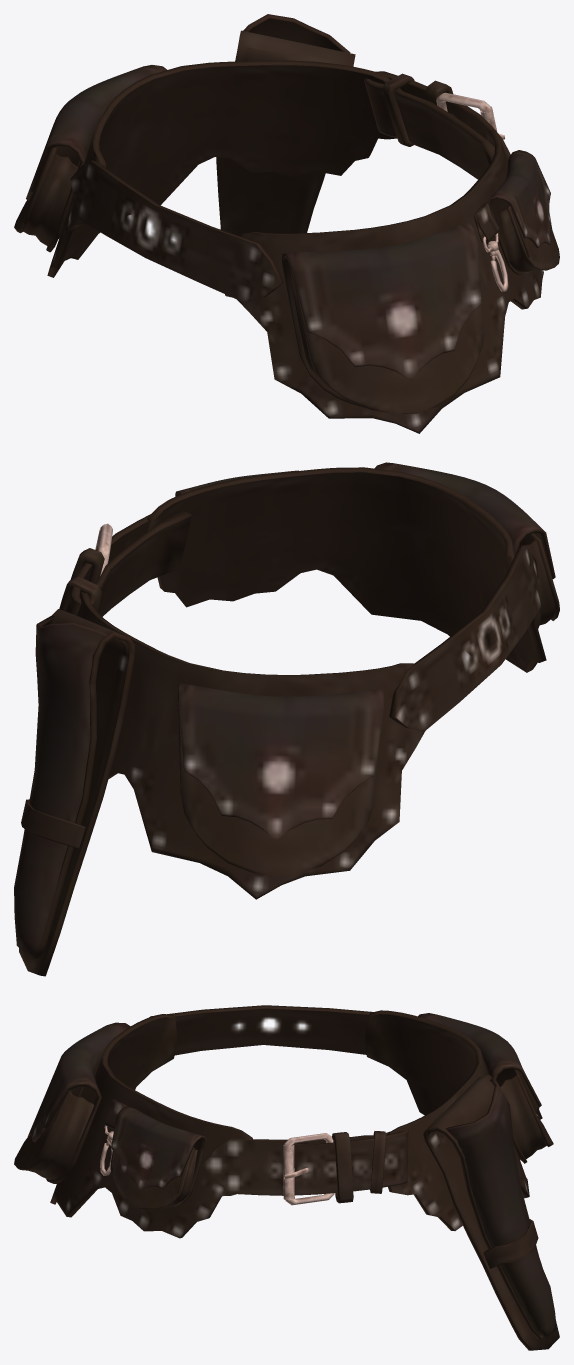
File: ropa_leather_belt.glb
The picture shows the model from 3 angles, top to bottom: view 1: azimuth 30°, elevation 25°; view 2: azimuth 150°, elevation 25°; view 3: azimuth 270°, elevation 25°; orthographic projection. The views are drawn at different scales.
Parts seen in each view (by area): view 1: bag_1_leather_0; view 2: bag_1_leather_0; view 3: bag_1_leather_0.
Boxes of the visible parts, <box> form: bag_1_leather_0: <box>14,14,559,433</box>; bag_1_leather_0: <box>14,462,559,976</box>; bag_1_leather_0: <box>14,1005,559,1350</box>.
Size of the model in its own units: 0.2995 by 0.2375 by 0.45.
Materials: 2 (2 with a texture image).
